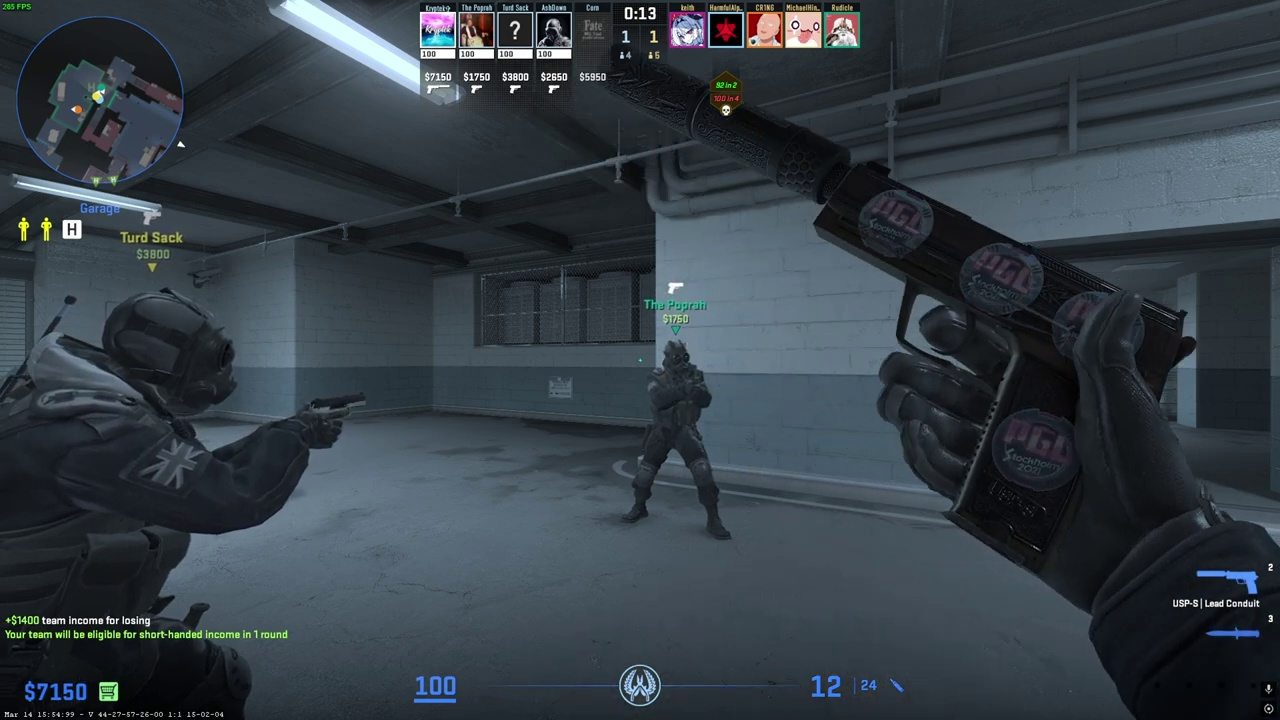CT: (4, 291, 265, 718), (626, 339, 728, 538)
